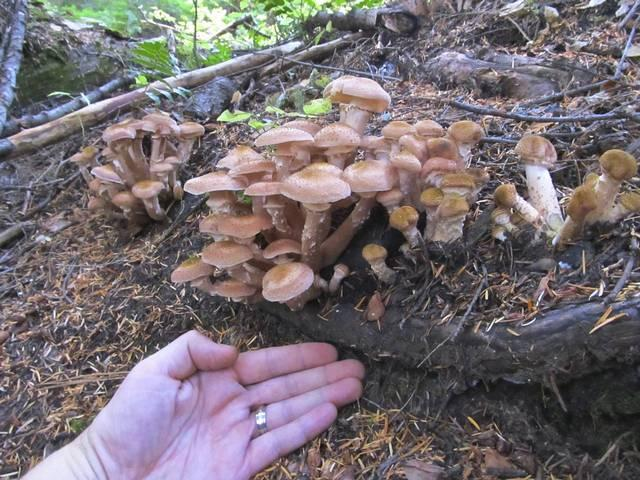Edible Mushroom: (170, 73, 489, 307), (70, 109, 204, 233), (513, 133, 563, 232)
